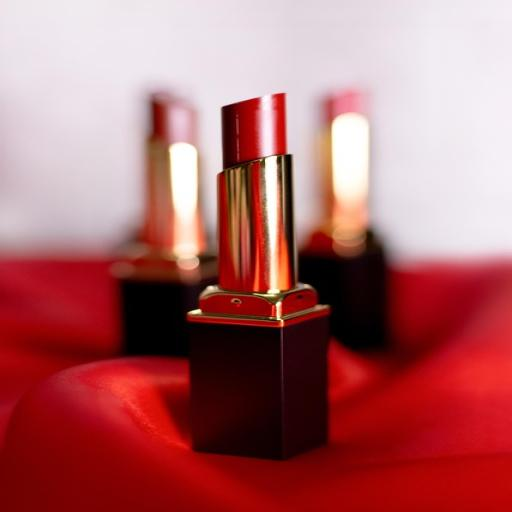lipstick: (189, 94, 329, 459), (113, 92, 217, 355), (299, 90, 387, 349)
